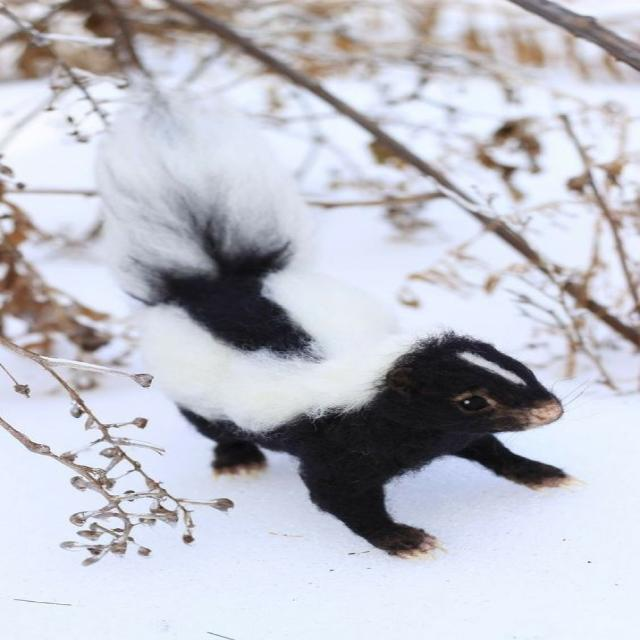Skunk: (81, 98, 577, 560)
